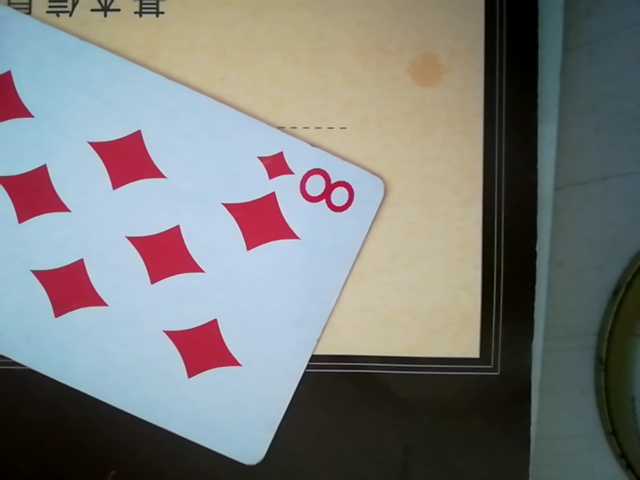fk 8: (4, 7, 415, 467)
